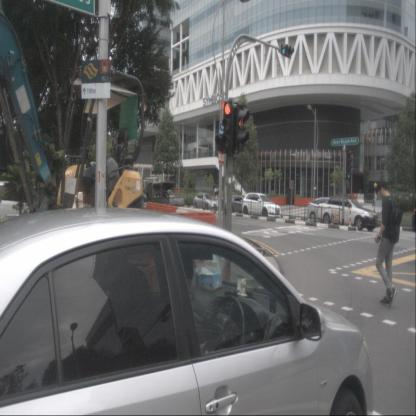human-pedestrian-adult: (374, 181, 402, 307), (372, 191, 377, 206), (216, 186, 219, 198), (214, 186, 216, 198)
movable_object-barrier: (168, 211, 217, 256), (146, 200, 178, 247), (350, 194, 358, 204), (358, 194, 364, 204)
vehicle-car: (0, 206, 374, 416), (318, 196, 379, 231), (0, 180, 31, 237), (242, 192, 281, 219), (307, 196, 344, 224), (193, 192, 218, 213), (228, 194, 250, 215), (158, 189, 176, 205)
vehicle-truck: (146, 182, 184, 212)
